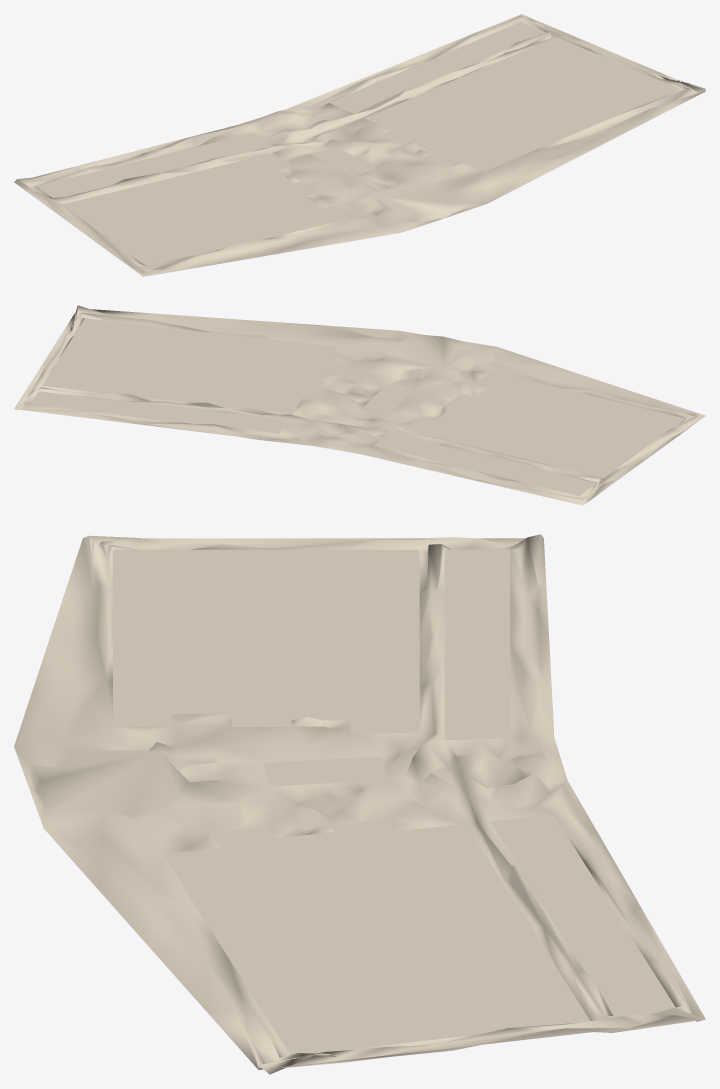
Rendered from board.obj.
The picture shows the model from 3 angles, top to bottom: view 1: azimuth 30°, elevation 25°; view 2: azimuth 150°, elevation 25°; view 3: azimuth 270°, elevation 25°; orthographic projection. The views are drawn at different scales.
Parts seen in each view (by area): view 1: board; view 2: board; view 3: board.
Boxes of the visible parts, x1,y1,x2,y2 form: board: [14, 14, 705, 276]; board: [14, 305, 705, 505]; board: [14, 534, 705, 1074].
Bounding box in the file's own units: 402 × 5.41 × 221.
